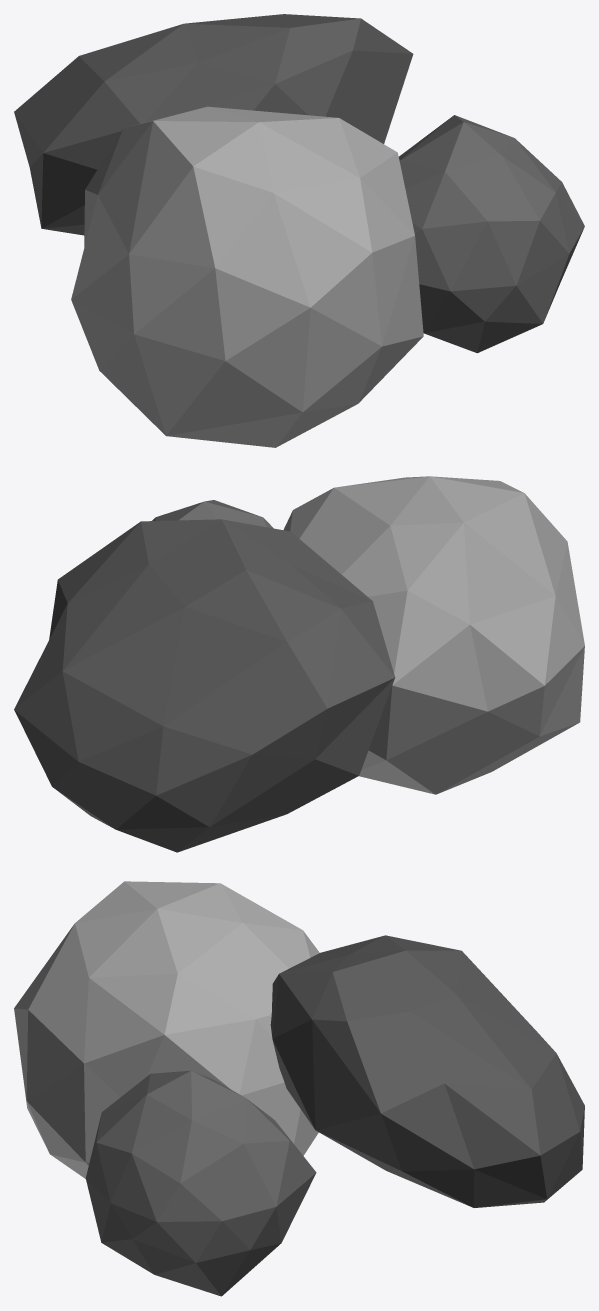
The model's file is rock.gltf.
3 views of the same model, one above another, from view 1: azimuth 30°, elevation 25°; view 2: azimuth 150°, elevation 25°; view 3: azimuth 270°, elevation 25° (orthographic). The views are drawn at different scales.
Parts seen in each view (by area): view 1: rock; view 2: rock; view 3: rock.
Boxes of the visible parts, box(x1,y1,x2,y2) form: rock: box(14, 14, 584, 447); rock: box(14, 476, 584, 852); rock: box(14, 881, 584, 1296).
Bounding box in the file's own units: 1.07 × 0.6391 × 1.21.
Materials: 1 (1 with a texture image).
